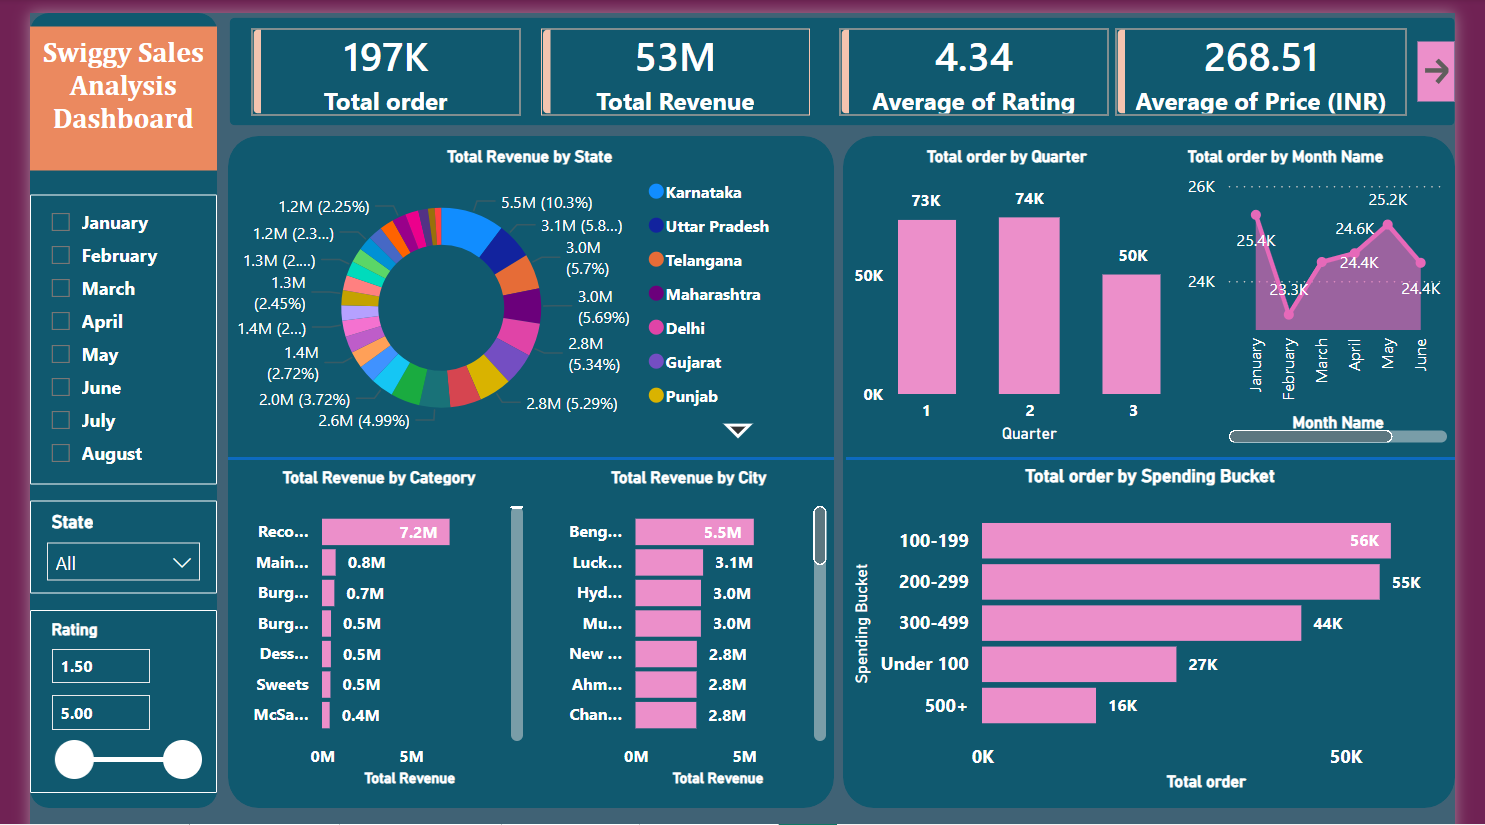

What the dashboard file says about the page in this screenshot:
{"tool":"powerbi","page":{"name":"Dashboard","canvas":[950,550],"ordinal":0},"visuals":[{"type":"shape","box":[542,82,408,448],"z":0},{"type":"shape","box":[0,0,125,530],"z":1000},{"type":"shape","box":[132.3,81.8,404,448.5],"z":2000},{"type":"shape","box":[133,3,817,72],"z":3000},{"type":"donutChart","fields":{"Category":["swiggy_data.State"],"Y":["swiggy_data.Total Revenue"]},"box":[132,89,403,202],"z":4000},{"type":"shape","box":[132.3,290.9,404,12.1],"z":5000},{"type":"clusteredBarChart","fields":{"Category":["swiggy_data.Category"],"Y":["swiggy_data.Total Revenue"]},"box":[132.3,303,202,217.2],"z":6000},{"type":"barChart","fields":{"Y":["swiggy_data.Total Revenue"],"Category":["swiggy_data.City"]},"box":[343.4,303,192.9,217.2],"z":7000},{"type":"shape","box":[544.4,290.9,428.3,12.1],"z":8000},{"type":"columnChart","fields":{"Y":["swiggy_data.Total order"],"Category":["swiggy_data.Quarter"]},"box":[544,89,215,202],"z":9000},{"type":"areaChart","fields":{"Y":["swiggy_data.Total order"],"Category":["swiggy_data.Month Name"]},"box":[767,89,183,202],"z":10000},{"type":"barChart","fields":{"Y":["swiggy_data.Total order"],"Category":["swiggy_data.Spending Bucket"]},"box":[544,301,406,222],"z":11000},{"type":"cardVisual","fields":{"Data":["swiggy_data.Total order"]},"box":[141,3,193,72],"z":12000},{"type":"cardVisual","fields":{"Data":["swiggy_data.Total Revenue"]},"box":[334,3,193,72],"z":13000},{"type":"cardVisual","fields":{"Data":["Avg(swiggy_data.Rating)"]},"box":[533,3,193,72],"z":14000},{"type":"slicer","fields":{"Values":["swiggy_data.Month Name"]},"box":[0,121,125,193],"z":15000},{"type":"cardVisual","fields":{"Data":["Avg(swiggy_data.Price (INR))"]},"box":[717,3,208,72],"z":16000},{"type":"slicer","fields":{"Values":["swiggy_data.State"]},"box":[0,325,125,62],"z":17000},{"type":"slicer","fields":{"Values":["swiggy_data.Rating"]},"box":[0,398,125,122],"z":18000},{"type":"textbox","box":[0,9,125,96],"z":19000},{"type":"actionButton","box":[925,19,25,40],"z":20000}]}

Visuals, with their boxes on the page's 950x550 design canvas (x1, y1, x2, y2). These are canvas units, not pixel positions in the 1485x825 screenshot, which may show the page scaled, cropped or inside an application window:
shape: [x1=542, y1=82, x2=950, y2=530]
shape: [x1=0, y1=0, x2=125, y2=530]
shape: [x1=132, y1=82, x2=536, y2=530]
shape: [x1=133, y1=3, x2=950, y2=75]
donutChart - swiggy_data.State x swiggy_data.Total Revenue: [x1=132, y1=89, x2=535, y2=291]
shape: [x1=132, y1=291, x2=536, y2=303]
clusteredBarChart - swiggy_data.Category x swiggy_data.Total Revenue: [x1=132, y1=303, x2=334, y2=520]
barChart - swiggy_data.Total Revenue x swiggy_data.City: [x1=343, y1=303, x2=536, y2=520]
shape: [x1=544, y1=291, x2=973, y2=303]
columnChart - swiggy_data.Total order x swiggy_data.Quarter: [x1=544, y1=89, x2=759, y2=291]
areaChart - swiggy_data.Total order x swiggy_data.Month Name: [x1=767, y1=89, x2=950, y2=291]
barChart - swiggy_data.Total order x swiggy_data.Spending Bucket: [x1=544, y1=301, x2=950, y2=523]
cardVisual - swiggy_data.Total order: [x1=141, y1=3, x2=334, y2=75]
cardVisual - swiggy_data.Total Revenue: [x1=334, y1=3, x2=527, y2=75]
cardVisual - Avg(swiggy_data.Rating): [x1=533, y1=3, x2=726, y2=75]
slicer - swiggy_data.Month Name: [x1=0, y1=121, x2=125, y2=314]
cardVisual - Avg(swiggy_data.Price (INR)): [x1=717, y1=3, x2=925, y2=75]
slicer - swiggy_data.State: [x1=0, y1=325, x2=125, y2=387]
slicer - swiggy_data.Rating: [x1=0, y1=398, x2=125, y2=520]
textbox: [x1=0, y1=9, x2=125, y2=105]
actionButton: [x1=925, y1=19, x2=950, y2=59]
